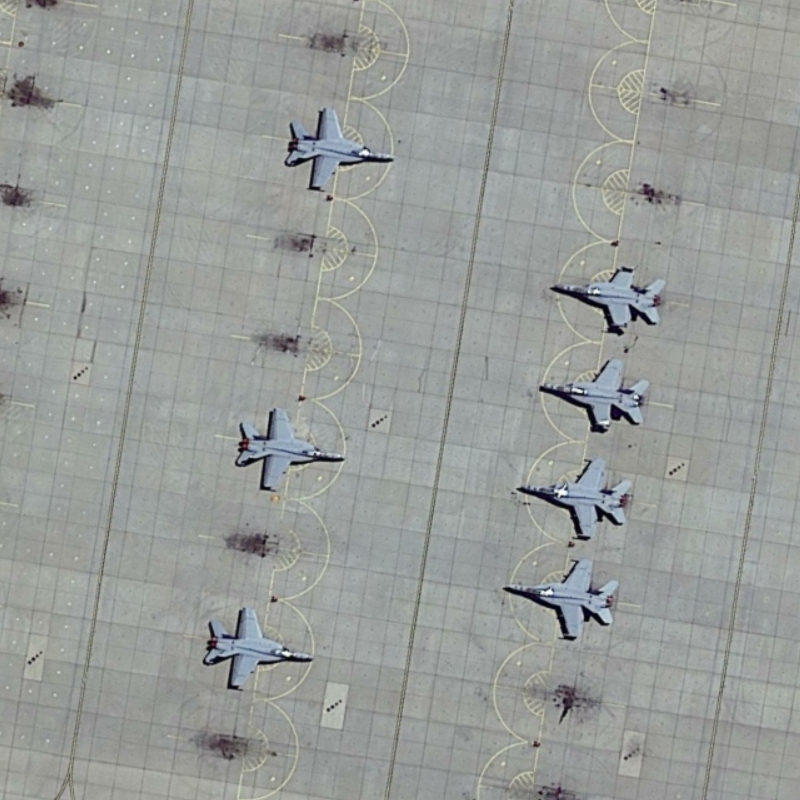A16: (493, 549, 622, 645), (281, 98, 400, 195), (196, 599, 316, 695), (228, 403, 348, 498), (541, 255, 672, 339), (513, 455, 635, 544), (533, 353, 655, 437)
